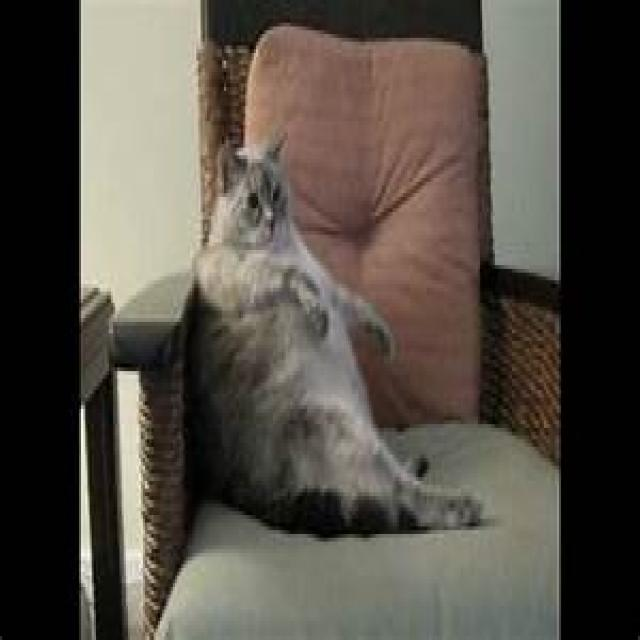cat: (182, 125, 484, 534)
